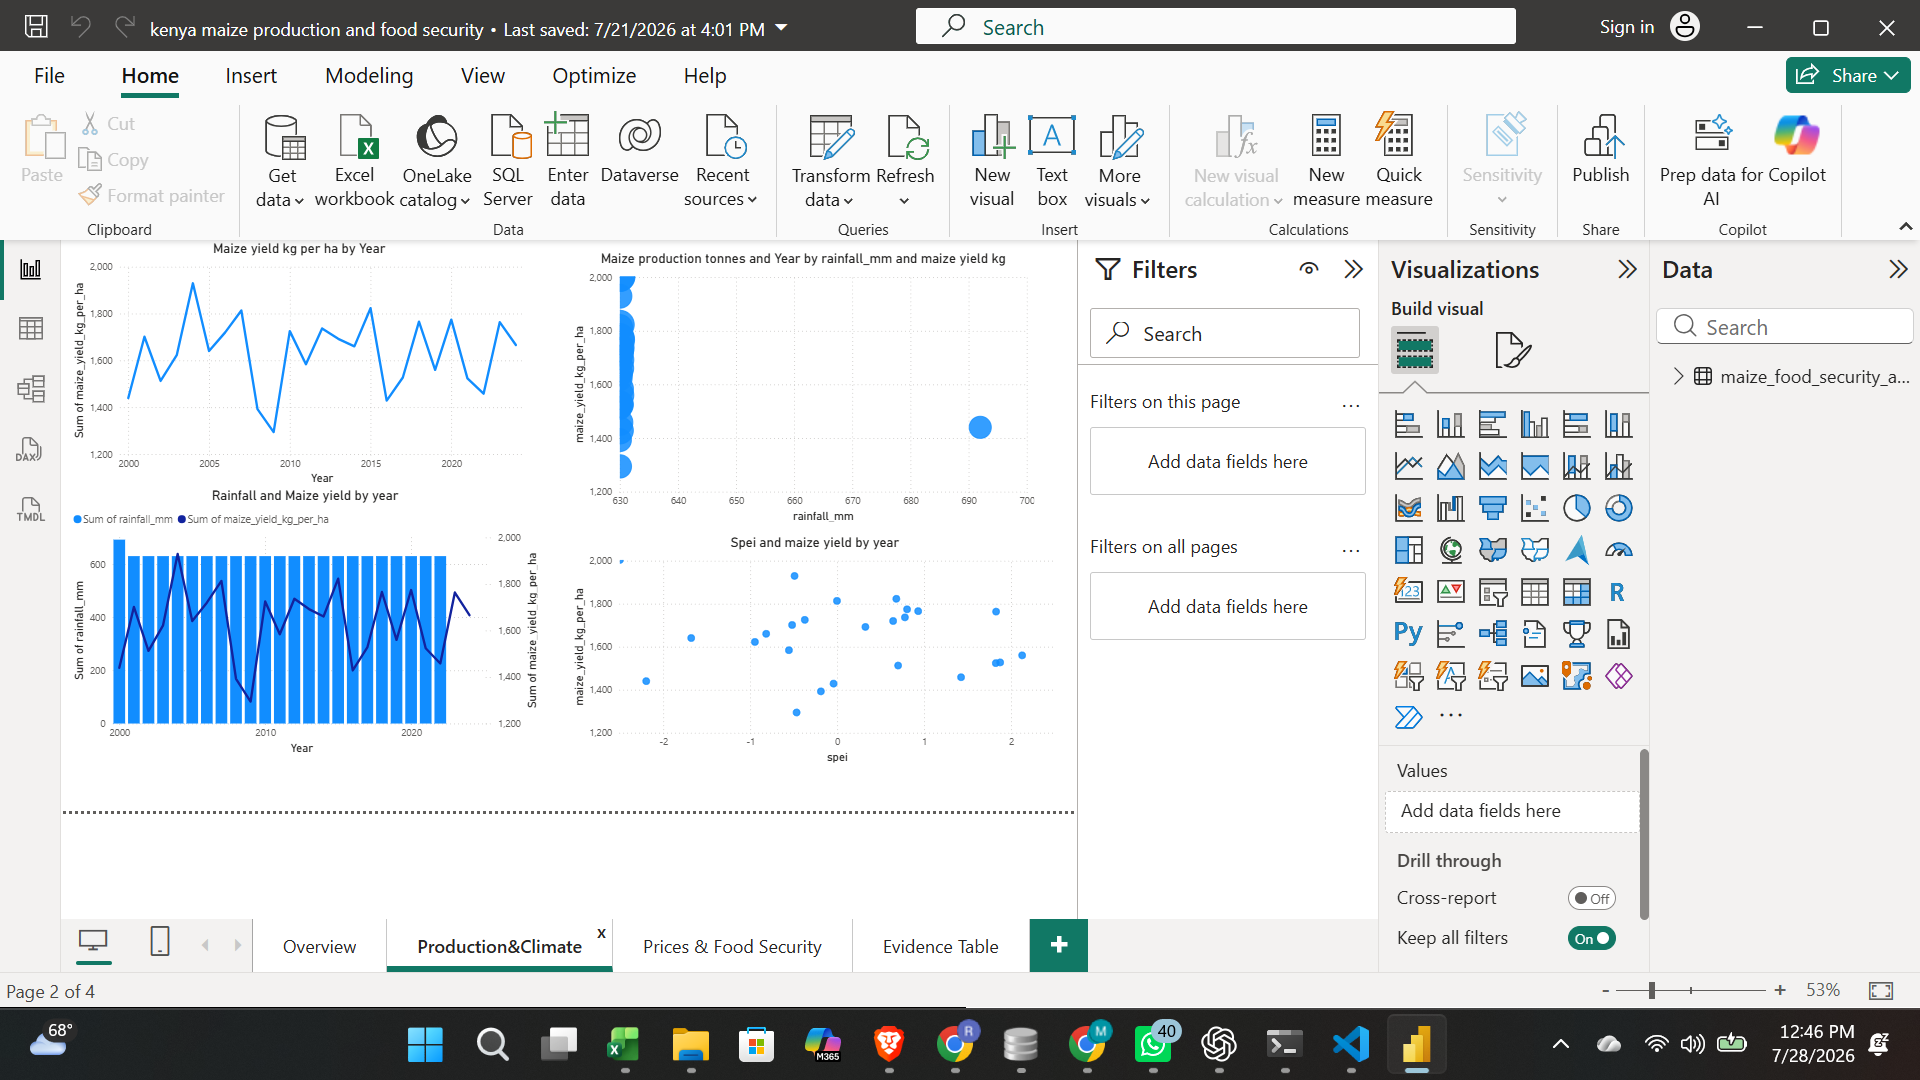

Layout of this report page (visuals, bound fields, positions):
{"tool":"powerbi","page":{"name":"Production&Climate","canvas":[1280,720],"ordinal":1},"visuals":[{"type":"lineChart","title":"Maize yield kg per ha by Year","fields":{"Y":["Sum(maize_food_security_analysis.maize_yield_kg_per_ha)"],"Category":["maize_food_security_analysis.Year"]},"box":[9.7,0,581.3,312.5],"z":0},{"type":"lineClusteredColumnComboChart","title":"Rainfall and Maize yield by year","fields":{"Category":["maize_food_security_analysis.Year"],"Y":["Sum(maize_food_security_analysis.rainfall_mm)"],"Y2":["Sum(maize_food_security_analysis.maize_yield_kg_per_ha)"]},"box":[9.7,312.5,595.9,340],"z":1000},{"type":"scatterChart","title":"Maize production tonnes and Year by rainfall_mm and maize yield kg","fields":{"X":["maize_food_security_analysis.rainfall_mm"],"Y":["maize_food_security_analysis.maize_yield_kg_per_ha"],"Size":["Sum(maize_food_security_analysis.maize_production_tonnes)"]},"box":[639.6,13,592.6,346.5],"z":2000},{"type":"scatterChart","title":"Spei and maize yield by year","fields":{"X":["maize_food_security_analysis.spei"],"Y":["maize_food_security_analysis.maize_yield_kg_per_ha"]},"box":[639.6,370.8,621.8,293.1],"z":3000}]}

Visuals, with their boxes on the page's 1280x720 design canvas (x1, y1, x2, y2). These are canvas units, not pixel positions in the 1920x1080 screenshot, which may show the page scaled, cropped or inside an application window:
"Maize yield kg per ha by Year" lineChart: 10, 0, 591, 312
"Rainfall and Maize yield by year" lineClusteredColumnComboChart: 10, 312, 606, 652
"Maize production tonnes and Year by rainfall_mm and maize yield kg" scatterChart: 640, 13, 1232, 360
"Spei and maize yield by year" scatterChart: 640, 371, 1261, 664
